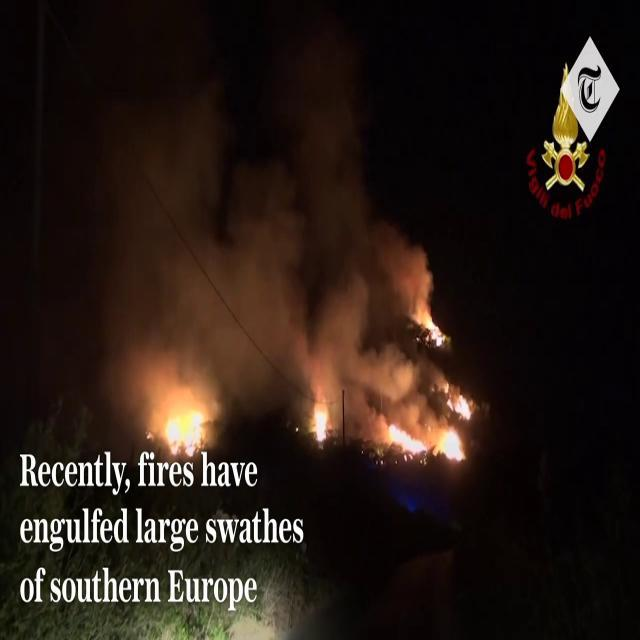Fire: (382, 410, 470, 467), (156, 392, 212, 457), (308, 390, 334, 448)
Smoke: (80, 6, 437, 400)
